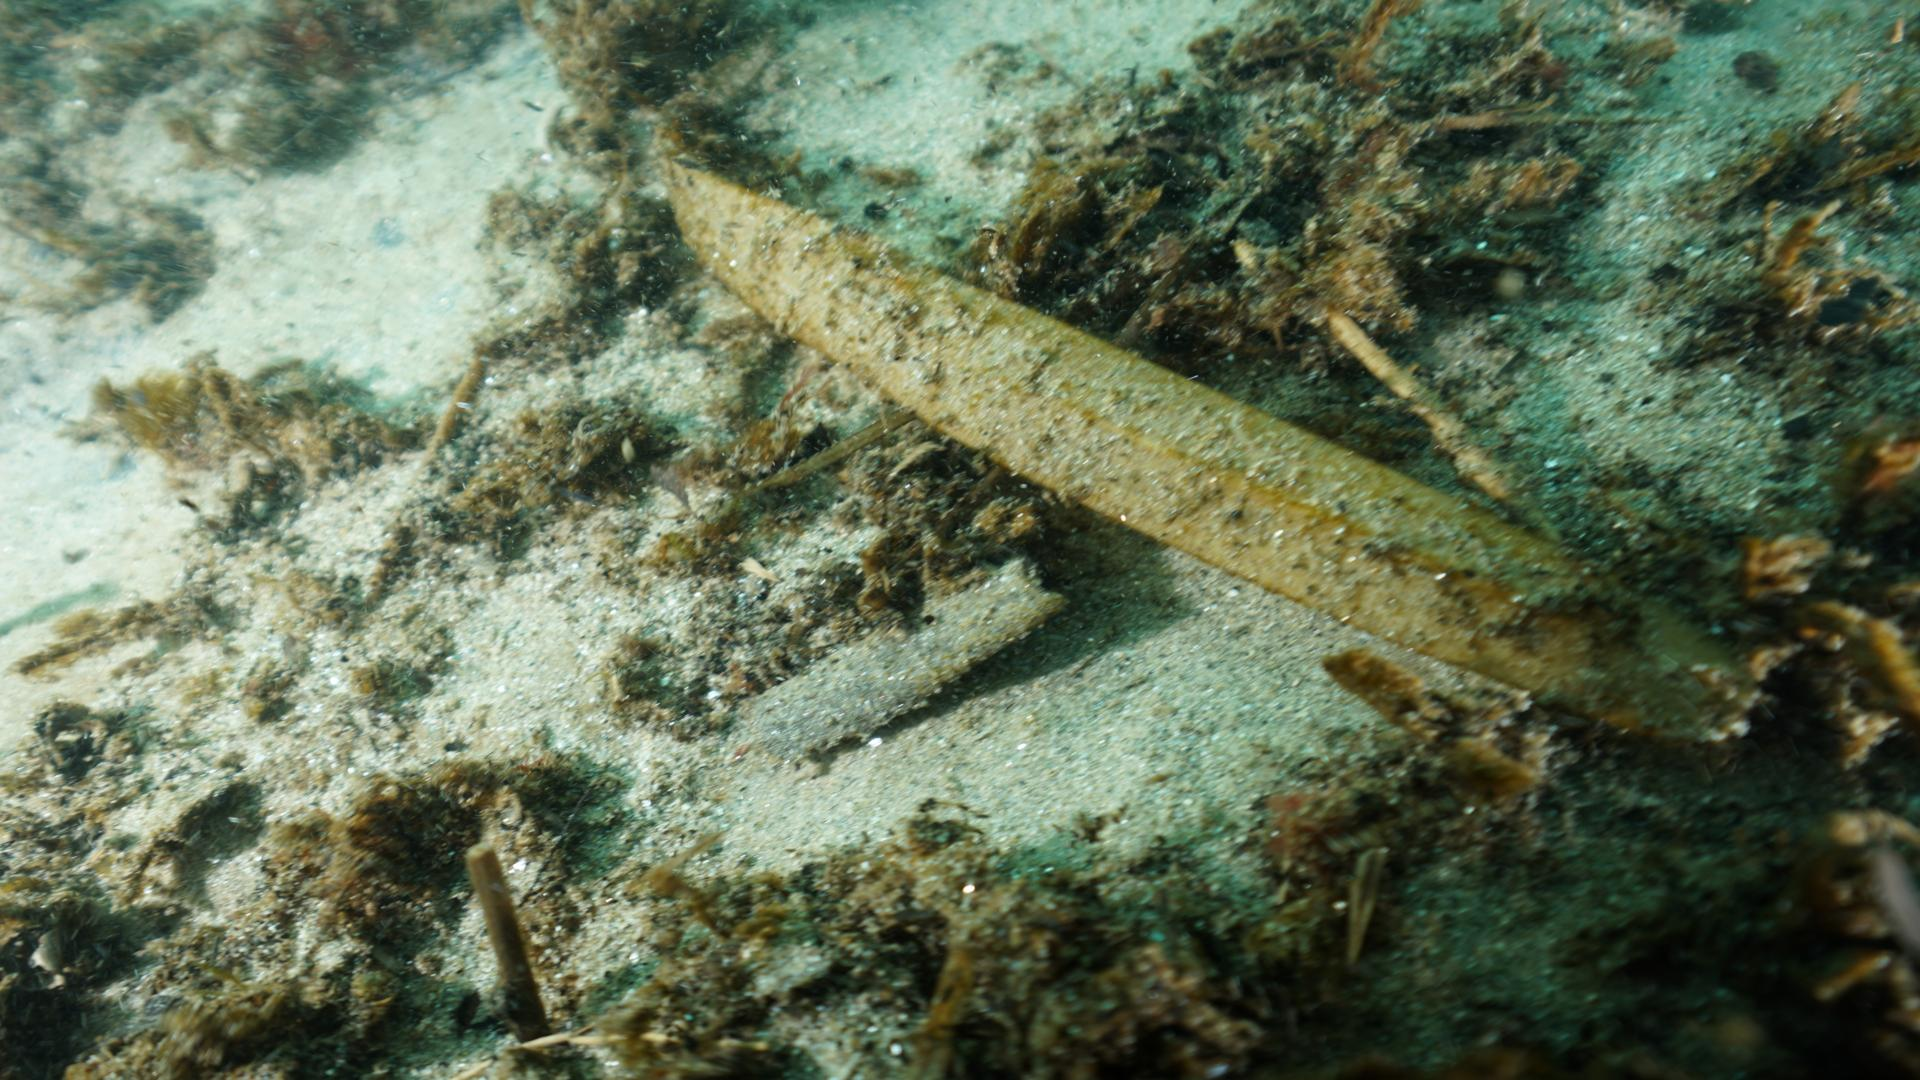wood: (647, 121, 1760, 744)
